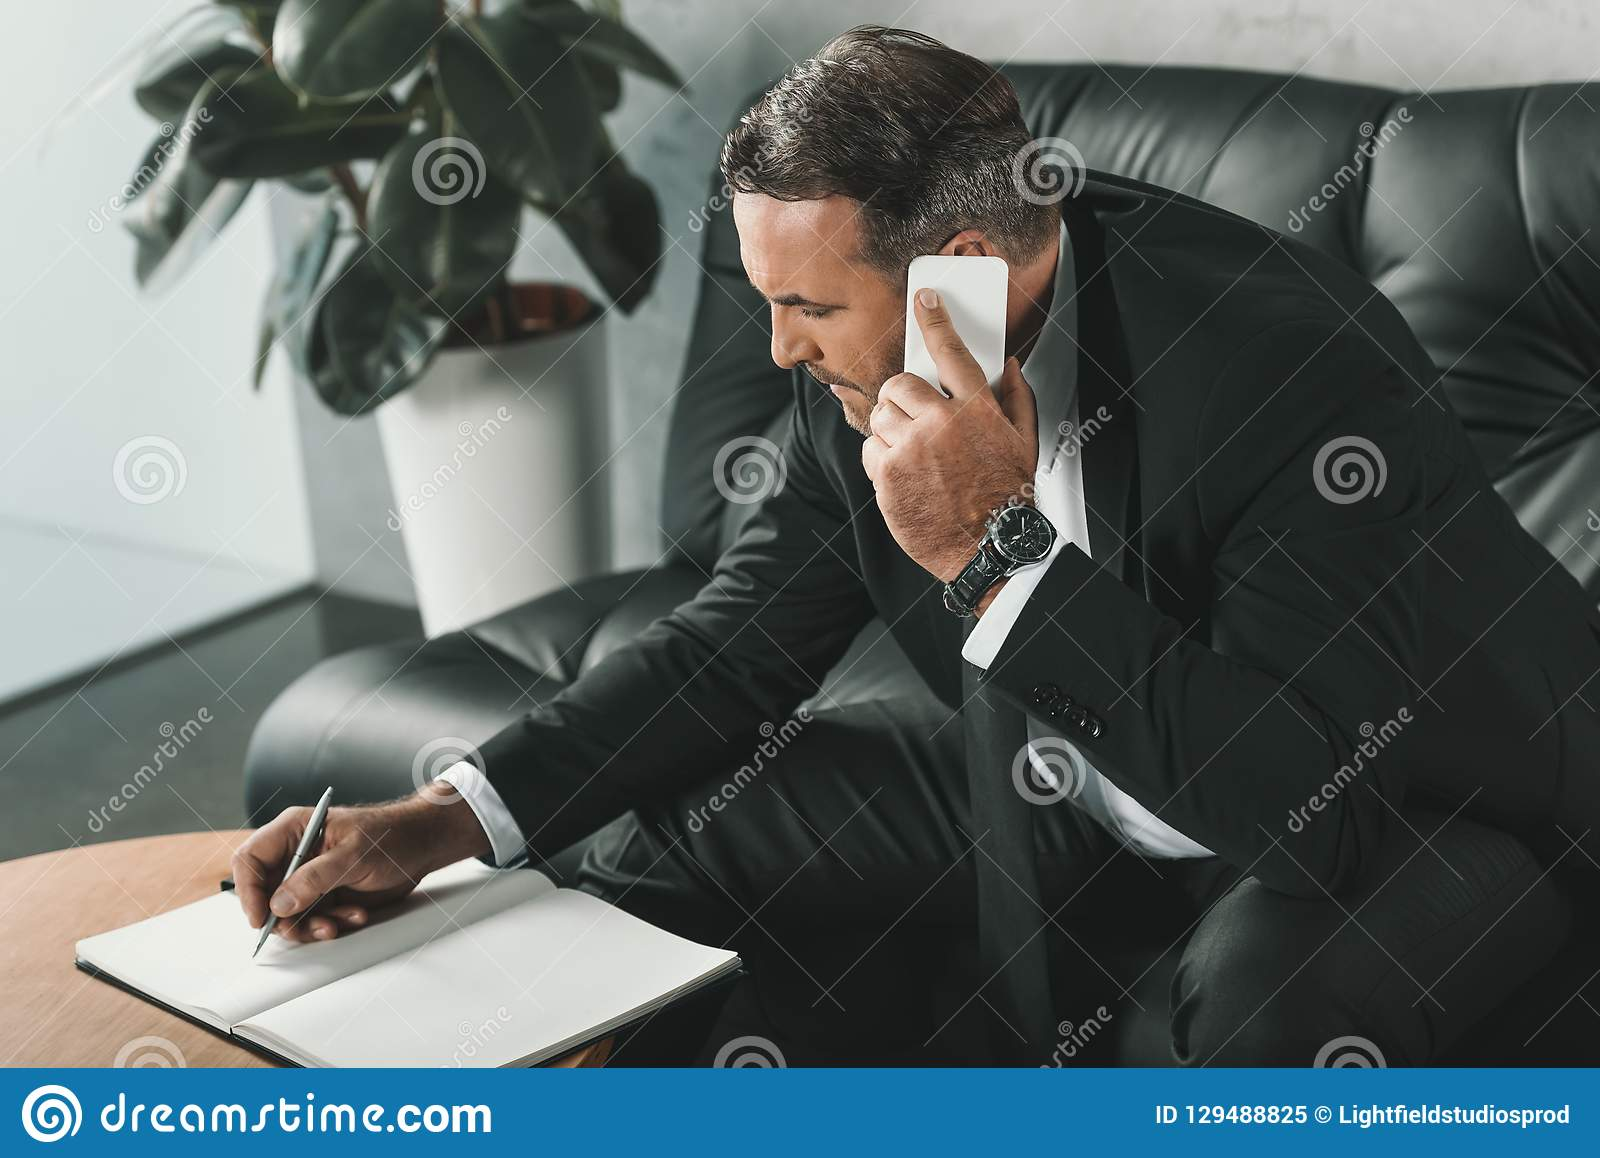phone: (902, 256, 1014, 401)
talk: (743, 248, 1043, 599)
